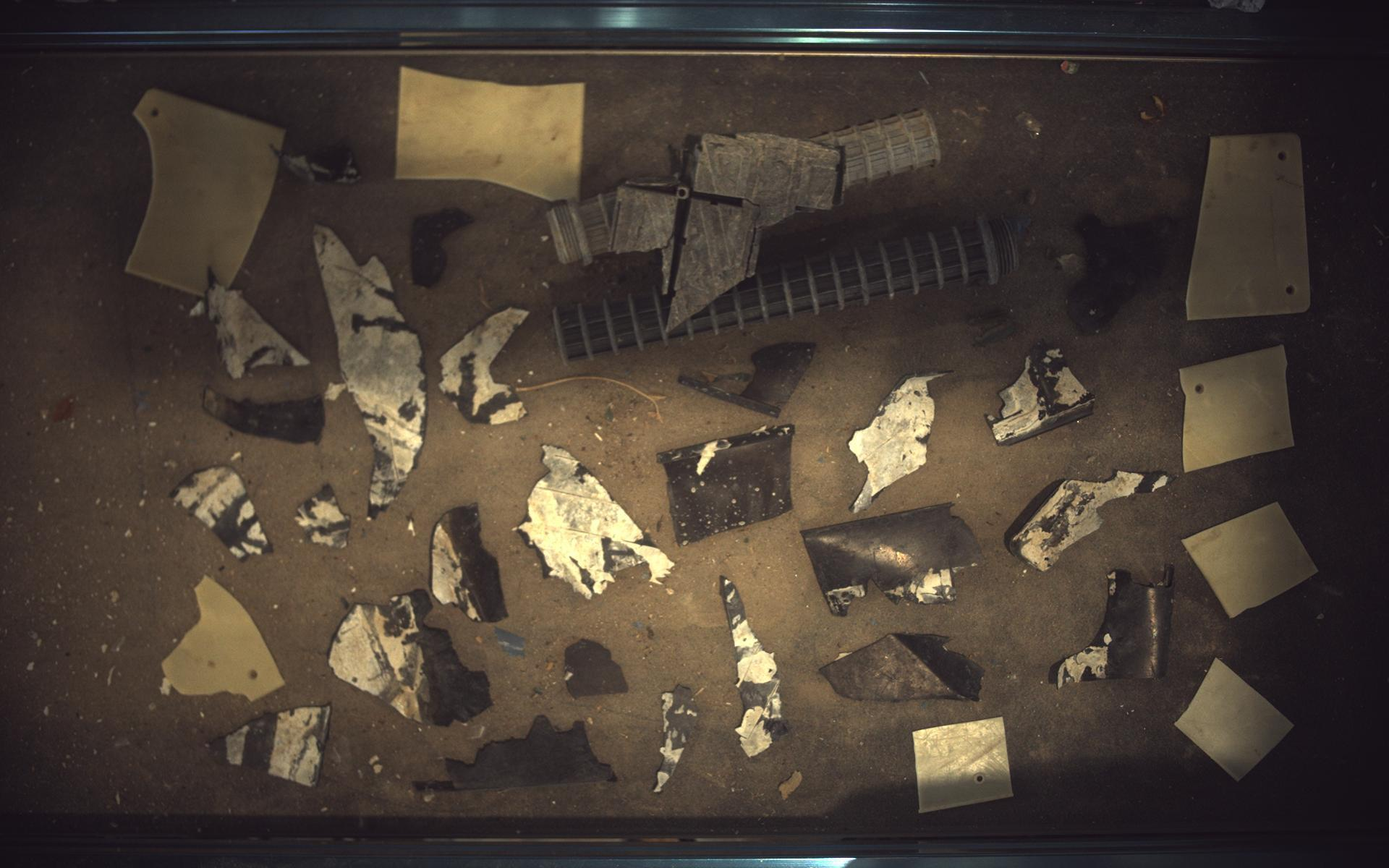plastic: (610, 132, 844, 328), (673, 218, 1024, 338), (313, 224, 426, 518), (124, 88, 284, 295), (397, 65, 585, 200), (520, 446, 673, 599), (1189, 132, 1313, 320), (328, 591, 492, 727), (803, 503, 984, 616), (658, 425, 795, 546), (414, 716, 617, 793), (1185, 503, 1320, 618), (161, 576, 284, 702), (1056, 566, 1176, 689), (851, 371, 953, 514), (1178, 660, 1297, 781), (1183, 345, 1296, 472), (188, 268, 310, 379), (1071, 213, 1175, 333), (722, 577, 789, 759), (821, 634, 985, 702), (990, 341, 1096, 445), (440, 307, 530, 425), (679, 342, 817, 417), (815, 109, 943, 187), (169, 467, 272, 561), (915, 718, 1015, 814), (430, 504, 508, 623), (216, 707, 330, 788), (553, 287, 668, 362), (203, 387, 324, 443), (411, 208, 474, 286), (548, 192, 616, 264), (654, 686, 699, 794), (566, 640, 629, 699), (294, 485, 350, 549), (281, 143, 360, 183), (969, 308, 1020, 346)
